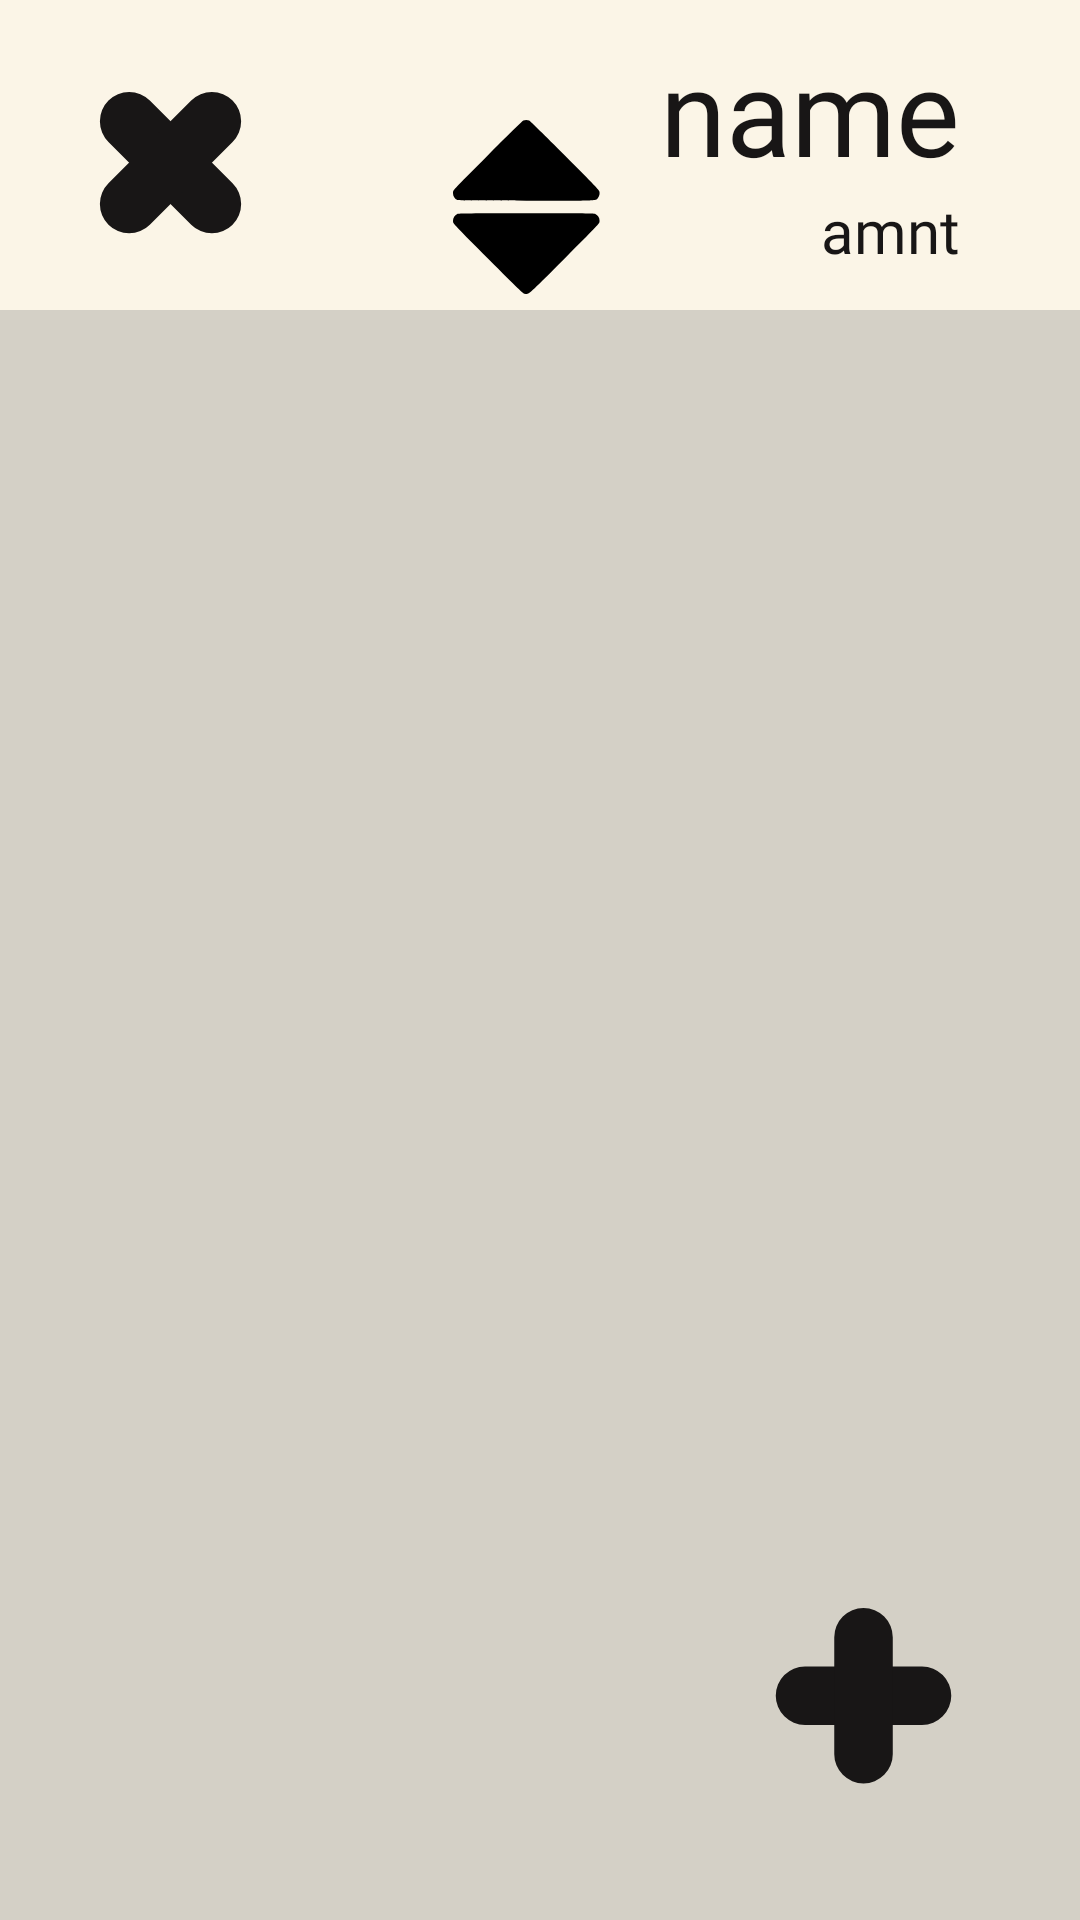

Screen size 1080 × 1920. Icon name, then its box in pixels as [left=x1, top=y1, right=x2, bottom=y2]:
Add project: [left=775, top=1608, right=952, bottom=1784]
close: [left=100, top=92, right=241, bottom=234]
sort: [left=453, top=120, right=600, bottom=294]
